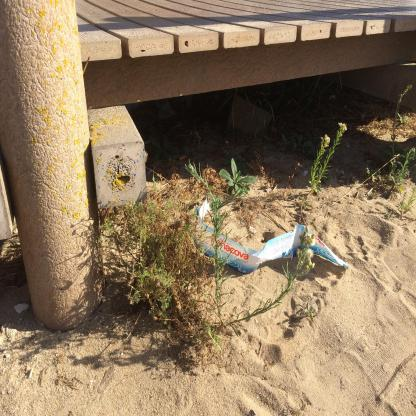plastik: (195, 201, 351, 276)
